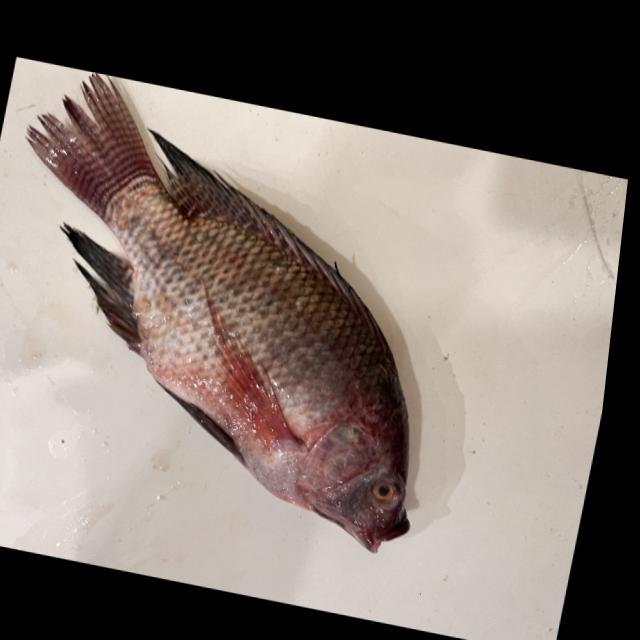Tilapia: (0, 57, 490, 564)
